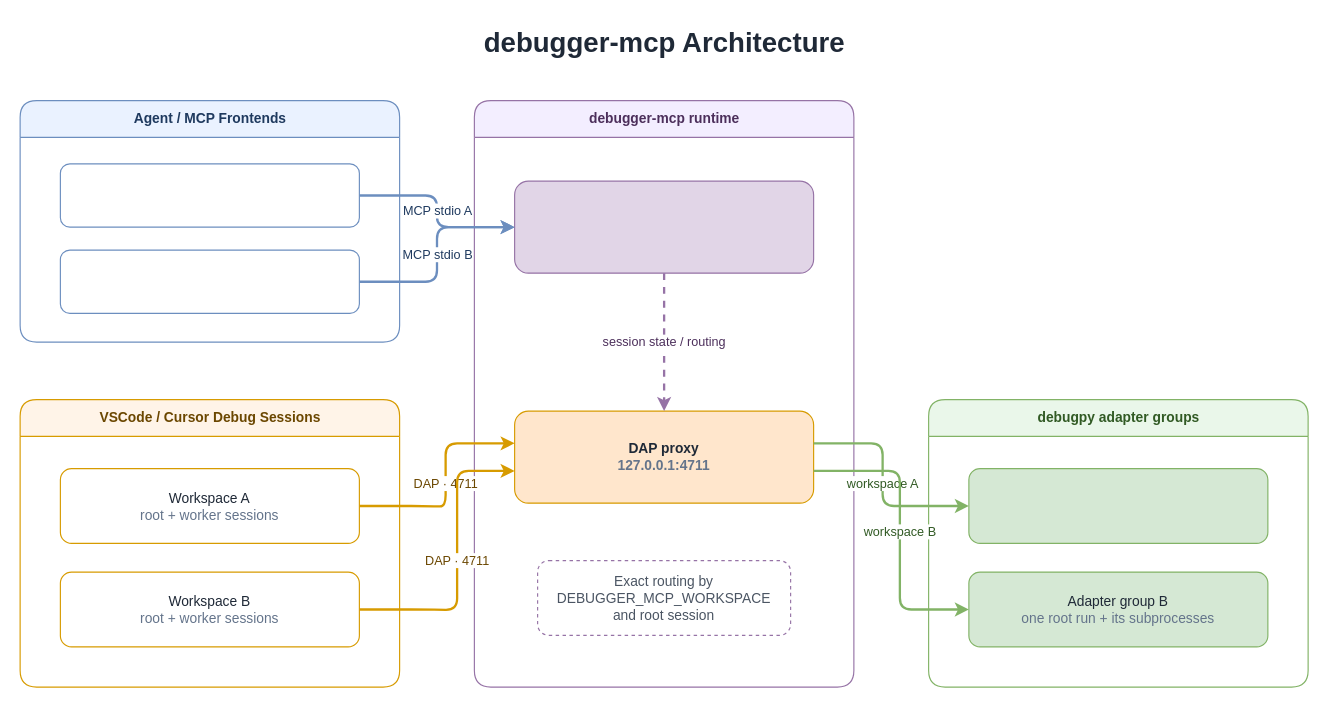
This 1328x707 diagram has some shape labels left out. The centre of each missing label's shape, as x and y in pixels:
Adapter group A one root run + its subprocesses: the point at 1118,505
Claude / Cursor A workspace A: the point at 209,195
Claude / Cursor B workspace B: the point at 209,281
Shared daemon control RPC · 127.0.0.1:4712: the point at 663,226
